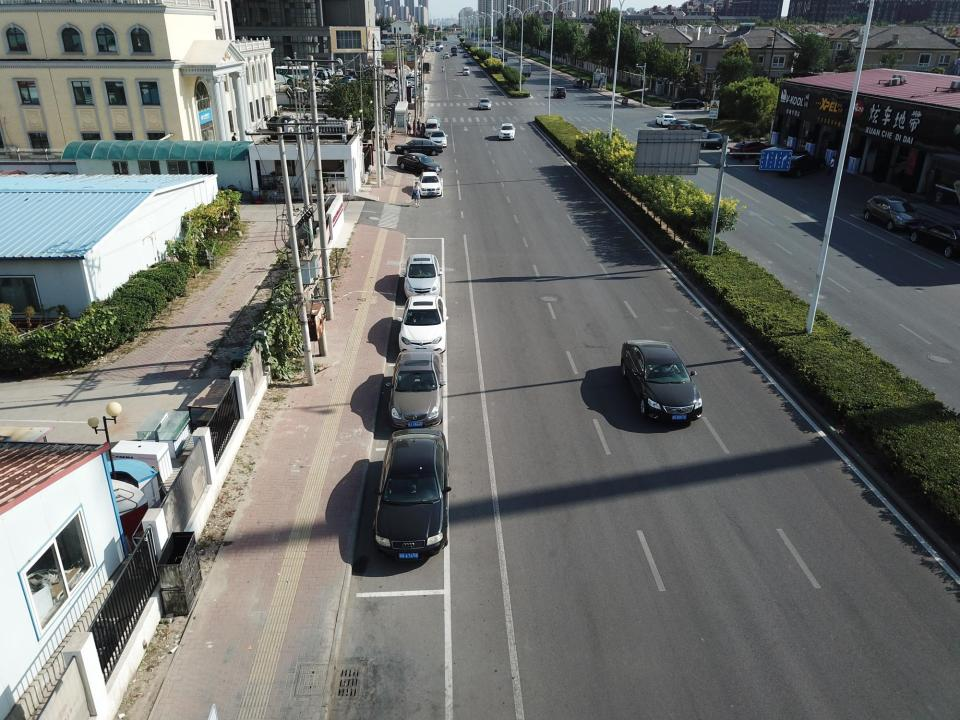car: (371, 427, 451, 562), (620, 338, 704, 422), (386, 347, 447, 431), (396, 293, 448, 358), (864, 195, 924, 231), (401, 255, 443, 302), (907, 222, 960, 257), (776, 152, 828, 178), (754, 145, 798, 170), (396, 153, 442, 174), (730, 140, 774, 159), (394, 139, 443, 156), (419, 171, 442, 197), (697, 131, 724, 148), (681, 124, 710, 139), (670, 98, 705, 110), (428, 130, 448, 147), (498, 122, 516, 140), (666, 120, 690, 132), (655, 114, 677, 126), (425, 115, 441, 128), (478, 98, 492, 109), (466, 58, 472, 64), (462, 53, 468, 58), (459, 49, 464, 53), (436, 48, 441, 52)
truck: (501, 52, 508, 62), (451, 47, 457, 56)
van: (424, 118, 440, 138), (520, 63, 532, 77), (553, 86, 566, 98), (573, 77, 584, 88), (462, 67, 470, 76), (444, 52, 450, 58), (493, 52, 499, 57), (430, 47, 434, 52)
